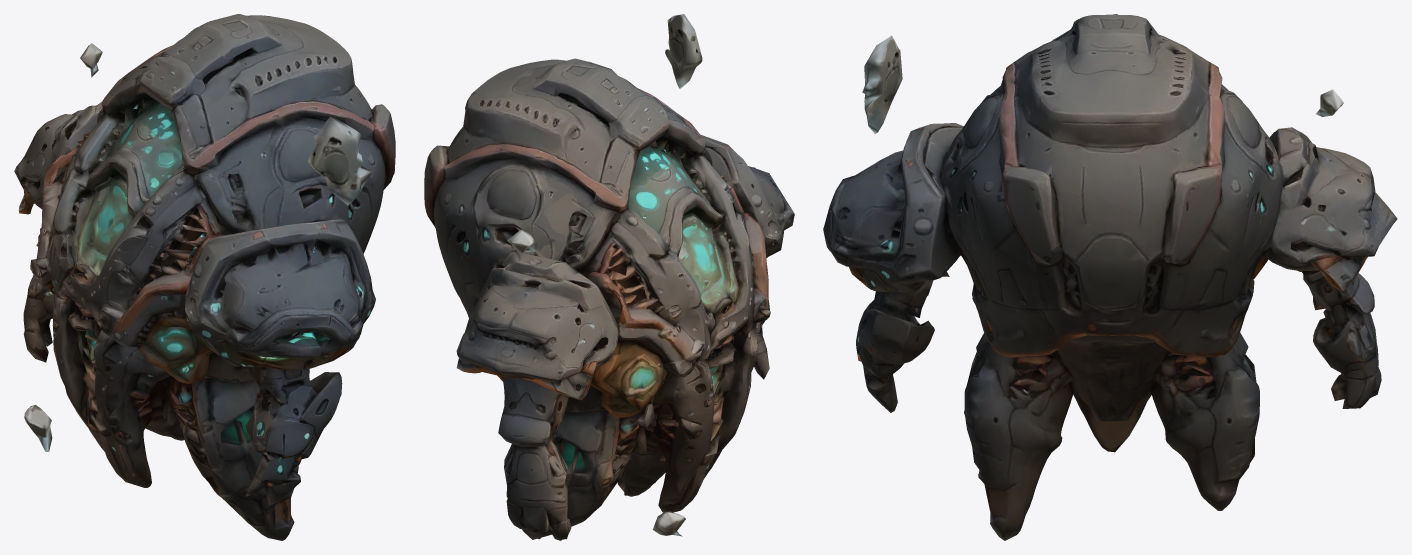
File: enemy_dread.glb
3 renders of one model, left to right at view 1: azimuth 30°, elevation 25°; view 2: azimuth 150°, elevation 25°; view 3: azimuth 270°, elevation 25°, orthographic. The views are drawn at different scales.
Parts seen in each view (by area): view 1: tripo_node_c17a9197-d9e4-4881-8eab-6d3dcc170324; view 2: tripo_node_c17a9197-d9e4-4881-8eab-6d3dcc170324; view 3: tripo_node_c17a9197-d9e4-4881-8eab-6d3dcc170324.
Part boxes in pixels (<box>): tripo_node_c17a9197-d9e4-4881-8eab-6d3dcc170324: <box>14,14,395,540</box>; tripo_node_c17a9197-d9e4-4881-8eab-6d3dcc170324: <box>424,14,794,540</box>; tripo_node_c17a9197-d9e4-4881-8eab-6d3dcc170324: <box>823,14,1397,540</box>.
Size of the model in its own units: 0.654 by 0.9979 by 0.9987.
Materials: 1 (1 with a texture image).
